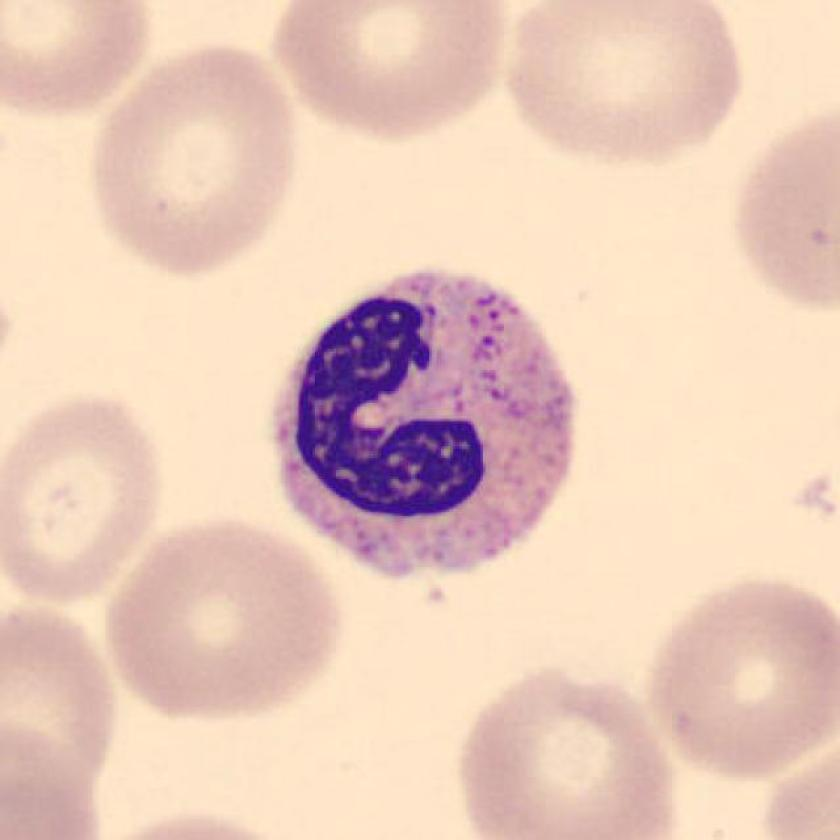neutrophil: (273, 273, 577, 577)
